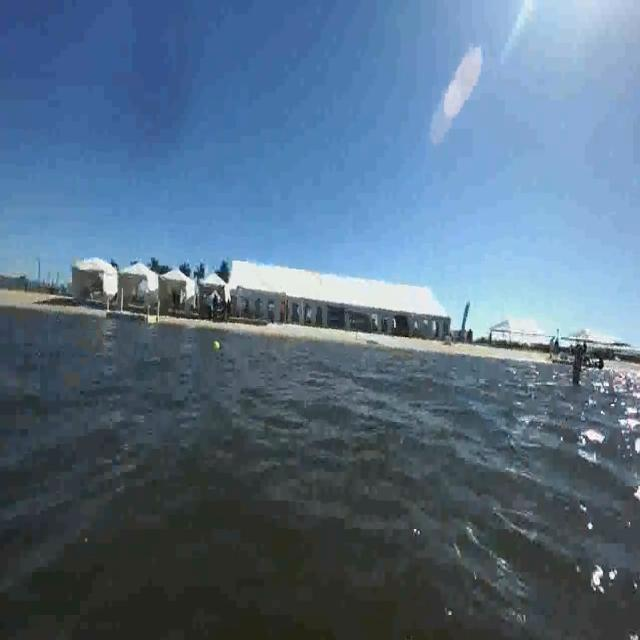yellow-buoy: (213, 340, 221, 353)
